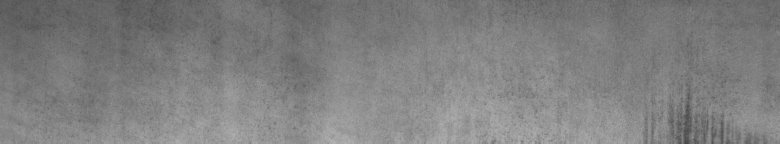ka: (670, 93, 724, 136)
